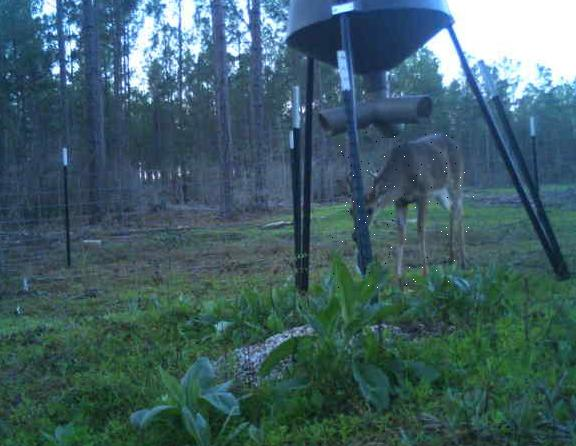Deer: (332, 132, 474, 289)
